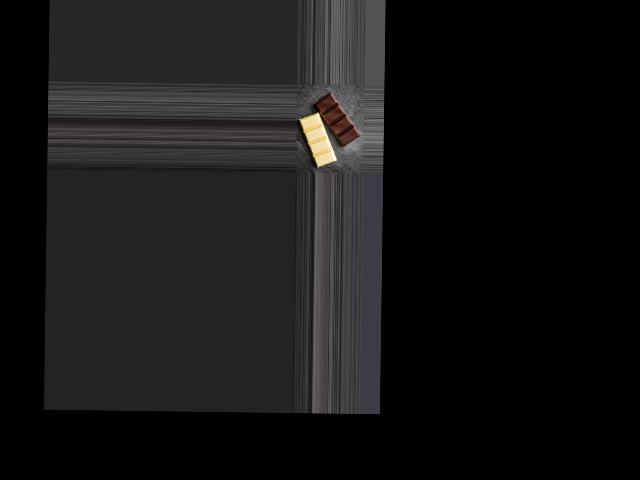chocolate: (298, 92, 359, 171)
